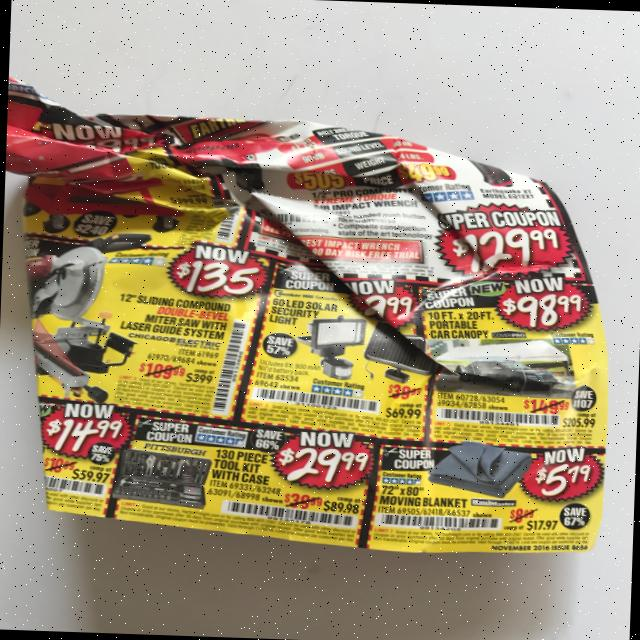paper: (0, 83, 621, 560)
